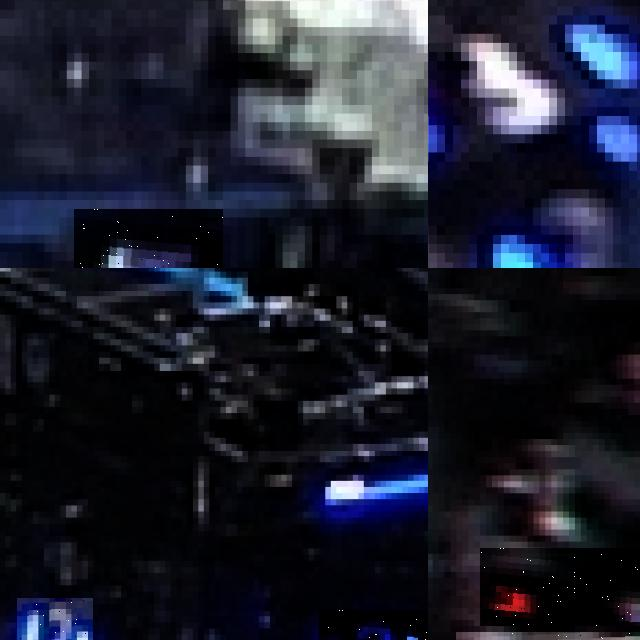B2: (319, 609, 428, 640), (16, 597, 93, 640)
B4: (74, 208, 223, 268)
R1: (480, 547, 640, 626)
